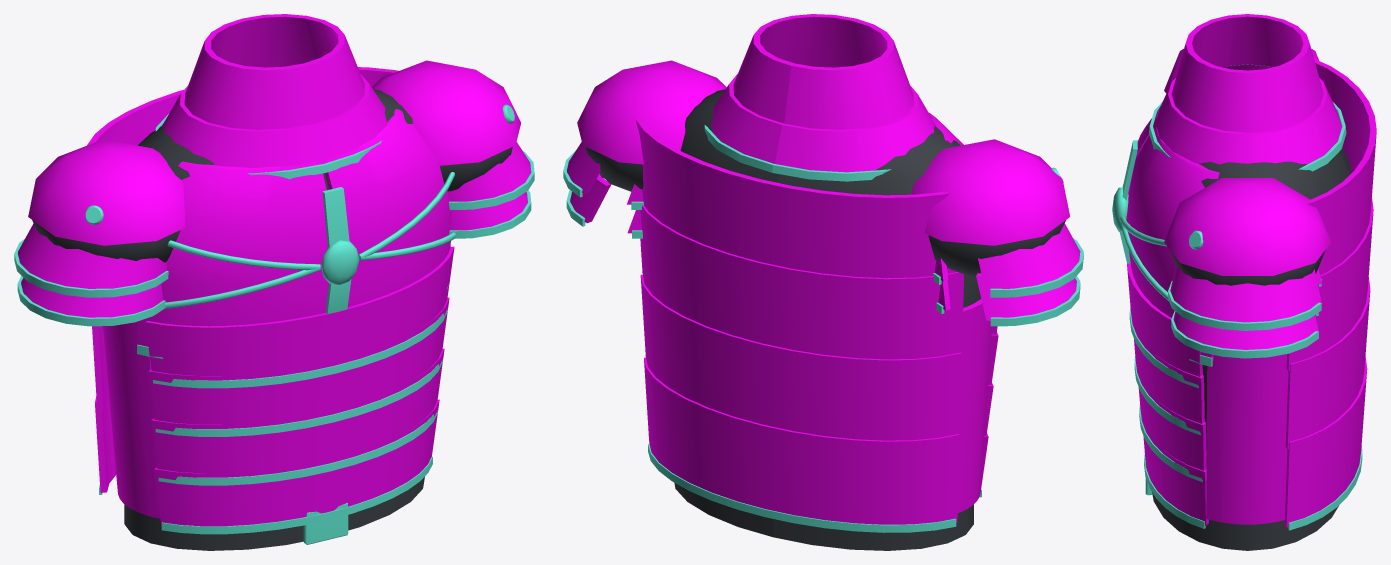
Rendered from objet_armure5_plastron.glb.
3 renders of one model, left to right at view 1: azimuth 30°, elevation 25°; view 2: azimuth 150°, elevation 25°; view 3: azimuth 270°, elevation 25°, orthographic. The views are drawn at different scales.
Parts seen in each view (by area): view 1: poitrine__plastron_teinte.010, ventre__plastron_teinte.010, poitrine__plastron_nano_lueur.002, ventre__plastron_nano_lueur.002, poitrine__plastron_teinte_sombre.008, ventre__plastron_teinte_sombre.008; view 2: poitrine__plastron_teinte.010, ventre__plastron_teinte.010, poitrine__plastron_teinte_sombre.008, ventre__plastron_teinte_sombre.008, poitrine__plastron_nano_lueur.002, ventre__plastron_nano_lueur.002; view 3: poitrine__plastron_teinte.010, ventre__plastron_teinte.010, poitrine__plastron_nano_lueur.002, poitrine__plastron_teinte_sombre.008, ventre__plastron_teinte_sombre.008, ventre__plastron_nano_lueur.002.
Part boxes in pixels (x1,y1,x2,y2): poitrine__plastron_teinte.010: [18, 14, 531, 346]; ventre__plastron_teinte.010: [92, 246, 454, 526]; poitrine__plastron_nano_lueur.002: [14, 104, 534, 358]; ventre__plastron_nano_lueur.002: [99, 308, 447, 544]; poitrine__plastron_teinte_sombre.008: [32, 89, 512, 262]; ventre__plastron_teinte_sombre.008: [124, 477, 424, 550]; poitrine__plastron_teinte.010: [567, 14, 1080, 359]; ventre__plastron_teinte.010: [640, 274, 998, 524]; poitrine__plastron_teinte_sombre.008: [585, 89, 1065, 307]; ventre__plastron_teinte_sombre.008: [674, 483, 973, 550]; poitrine__plastron_nano_lueur.002: [563, 125, 1083, 326]; ventre__plastron_nano_lueur.002: [648, 444, 981, 532]; poitrine__plastron_teinte.010: [1126, 14, 1376, 370]; ventre__plastron_teinte.010: [1127, 263, 1370, 527]; poitrine__plastron_nano_lueur.002: [1112, 64, 1346, 366]; poitrine__plastron_teinte_sombre.008: [1170, 147, 1351, 285]; ventre__plastron_teinte_sombre.008: [1152, 365, 1338, 550]; ventre__plastron_nano_lueur.002: [1129, 307, 1362, 530].
Size of the model in its own units: 0.4163 by 0.3672 by 0.1992.
